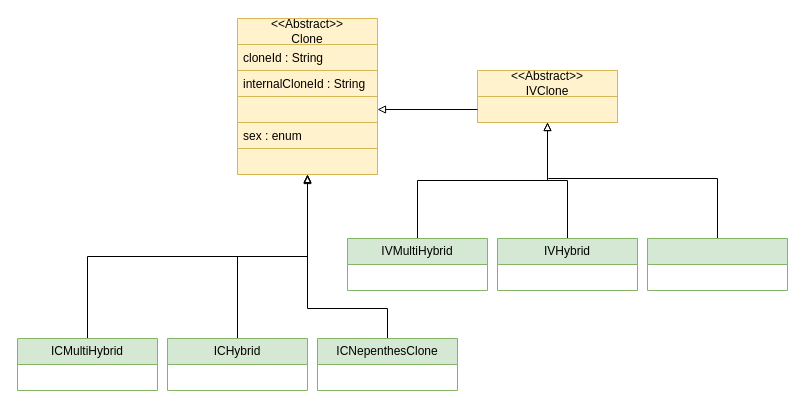
Image size: 805x408. Some labels were removed from this diagram. Each missing label, with the centre of its shape:
"grex: Grex" belongs at (x=307, y=161).
"IVNepenthesClone" belongs at (x=717, y=264).
"name : String" belongs at (x=307, y=109).
"producer: Producer" belongs at (x=547, y=109).
